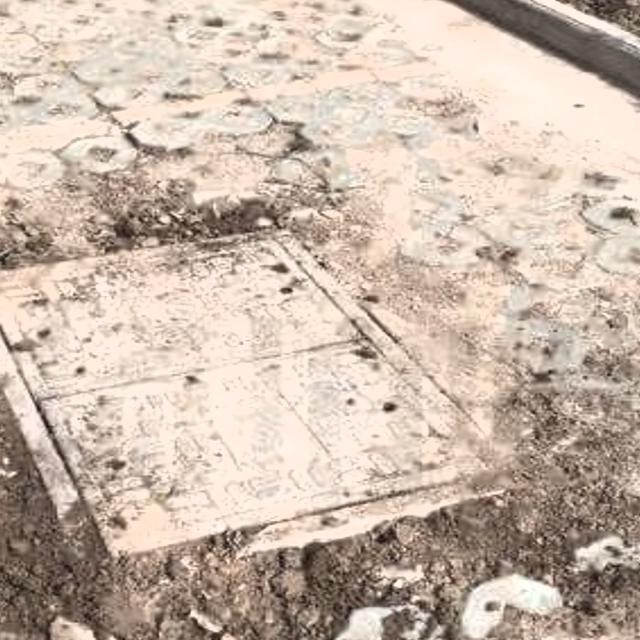circle: (0, 219, 566, 620)
